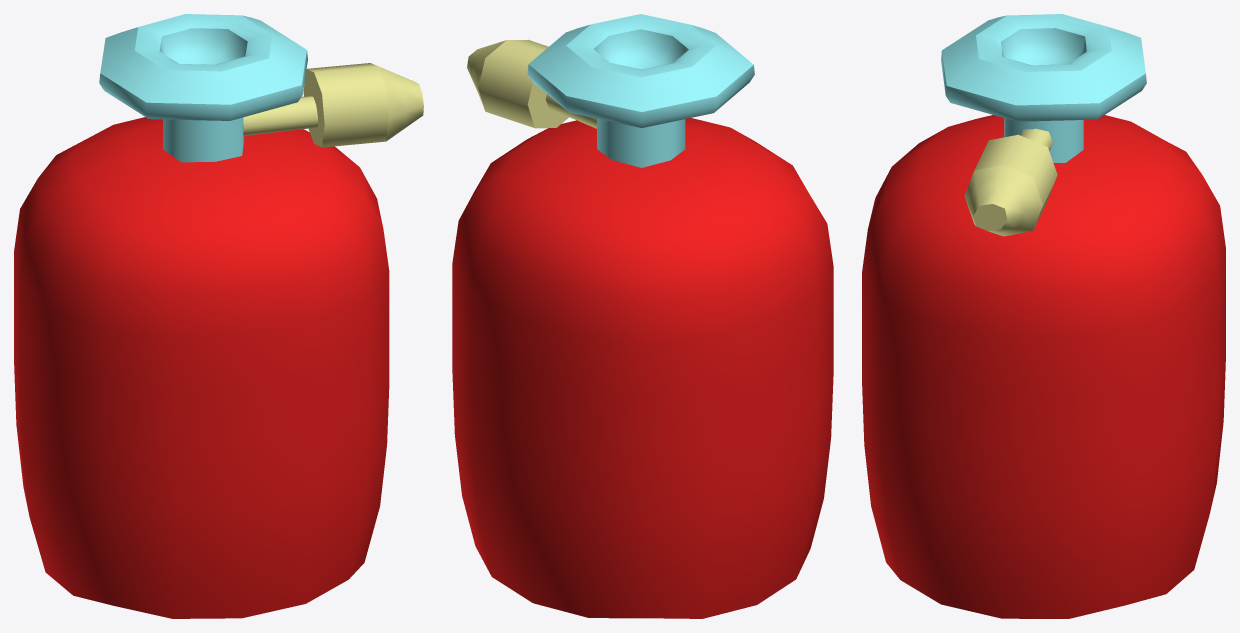
Rendered from BombonaMat.FBX.
3 renders of one model, left to right at view 1: azimuth 30°, elevation 25°; view 2: azimuth 150°, elevation 25°; view 3: azimuth 270°, elevation 25°, orthographic.
Parts seen in each view (by area): view 1: Bomba001; view 2: Bomba001; view 3: Bomba001.
Part boxes in pixels (x1,y1,x2,y2): Bomba001: [14, 14, 423, 618]; Bomba001: [452, 14, 833, 618]; Bomba001: [862, 14, 1225, 618].
Bounding box in the file's own units: 2.6 × 3.66 × 2.29.
